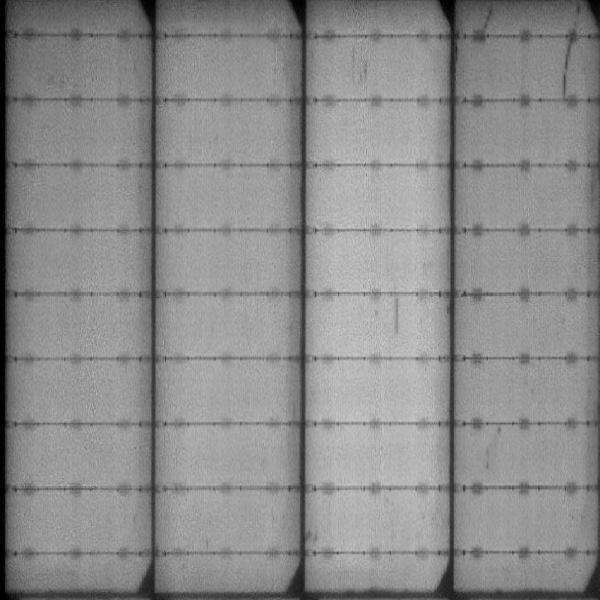scratch: (562, 18, 579, 99), (477, 8, 499, 40), (393, 295, 405, 339)
